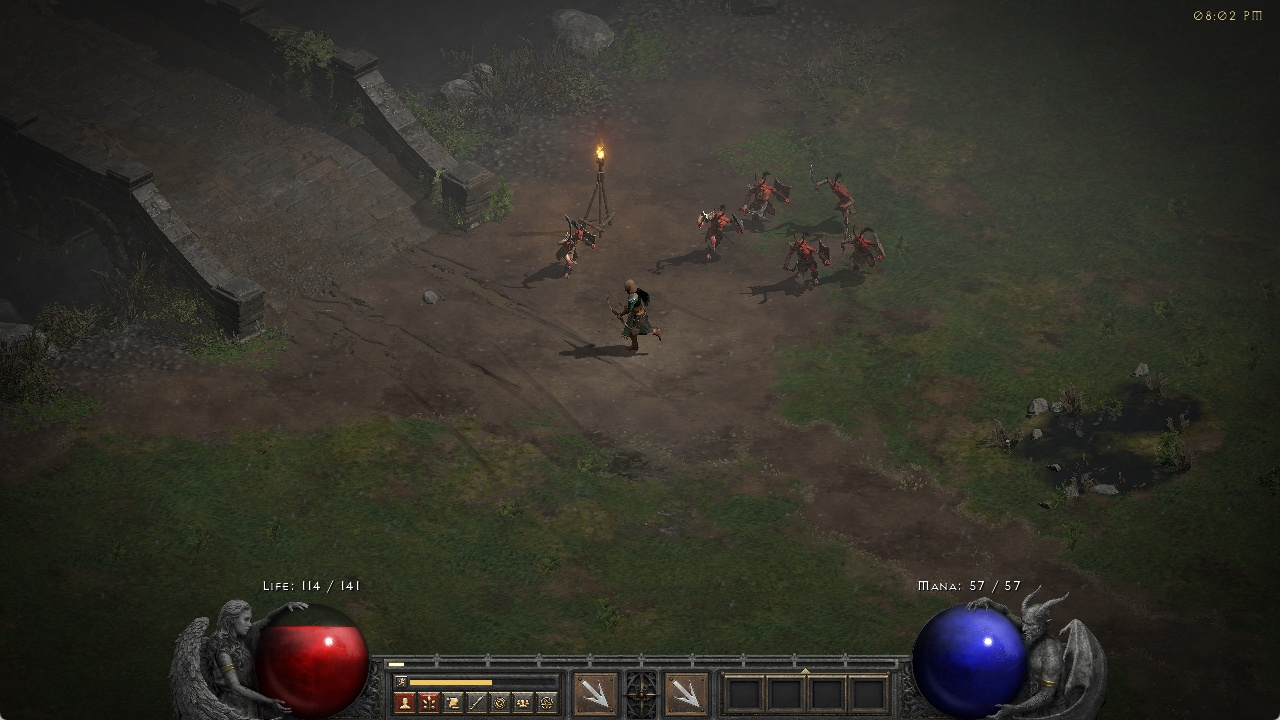fallen: (807, 166, 863, 228), (781, 232, 831, 291), (550, 211, 594, 275), (694, 205, 742, 262), (749, 172, 793, 229), (839, 226, 884, 275)
